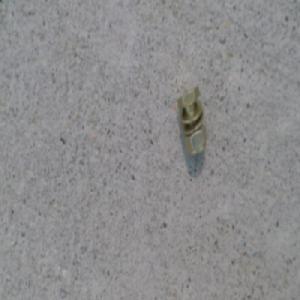BoltNutSet: (176, 84, 206, 158)
